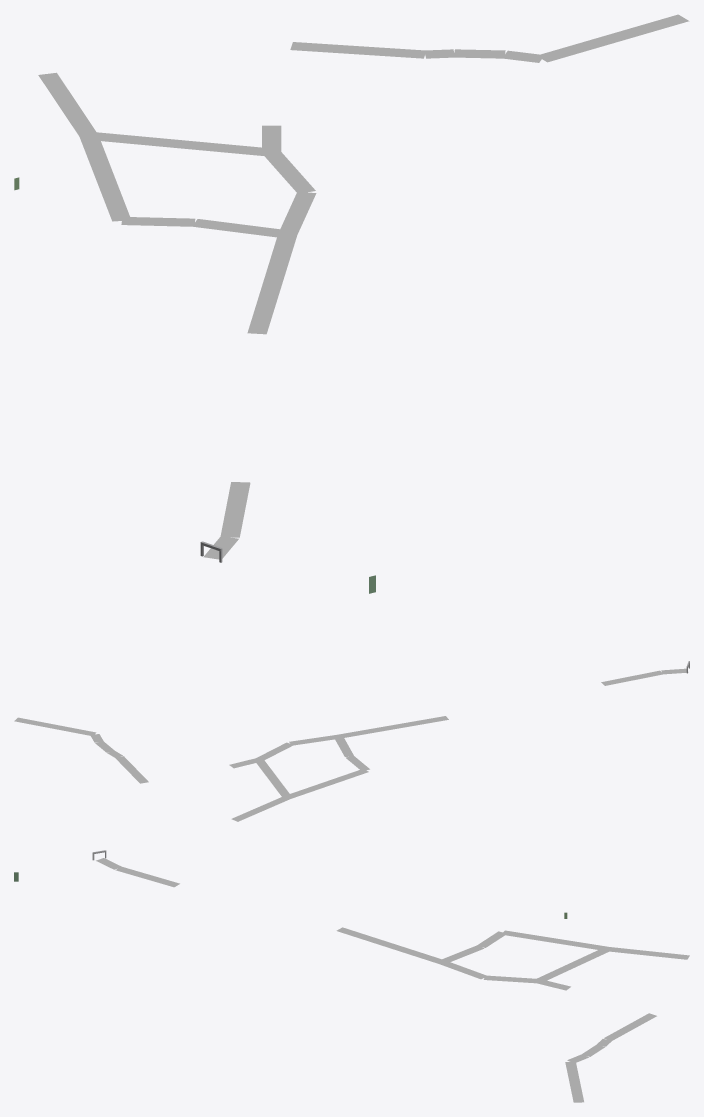
3 renders of one model, top to bottom at view 1: azimuth 30°, elevation 25°; view 2: azimuth 150°, elevation 25°; view 3: azimuth 270°, elevation 25°, orthographic. The views are drawn at different scales.
Size of the model in its own units: 380 by 7 by 443.
